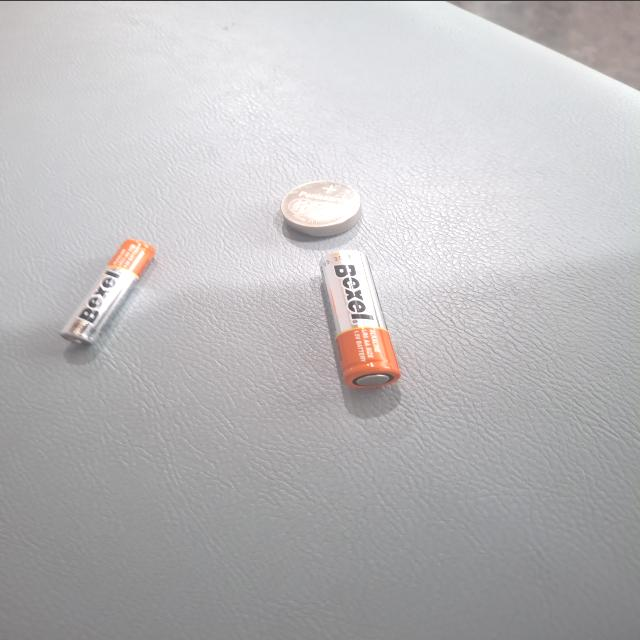AA: (331, 342, 516, 402)
AAA: (317, 524, 460, 596)
COIN: (240, 369, 314, 430)
